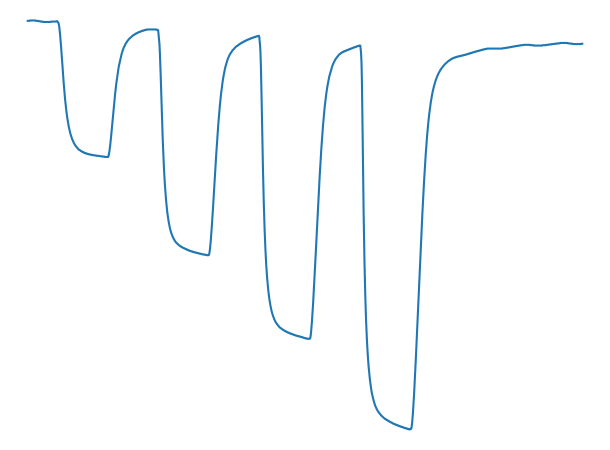decrease: (244, 31, 265, 49), (45, 15, 64, 34), (146, 23, 164, 42), (347, 40, 366, 57)
increase: (397, 412, 420, 435), (296, 324, 317, 344), (94, 144, 116, 162), (196, 241, 216, 259)
